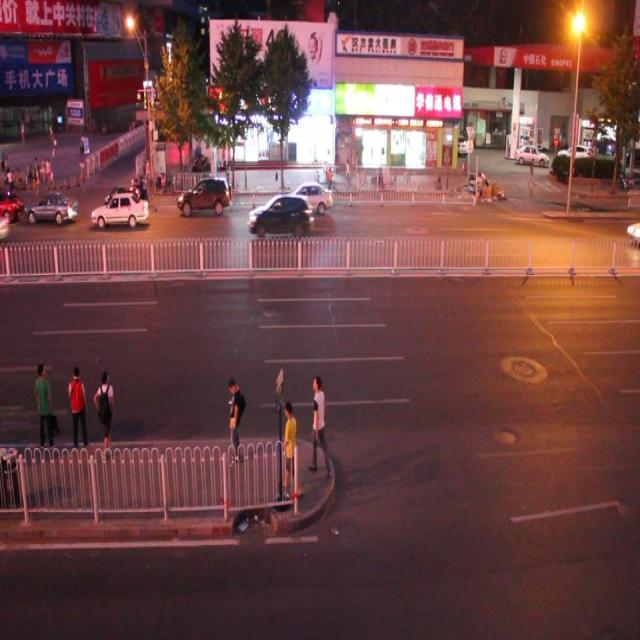car: (248, 192, 313, 236), (175, 172, 237, 217), (278, 175, 335, 220), (90, 191, 150, 229), (25, 186, 81, 226), (101, 180, 145, 223)
